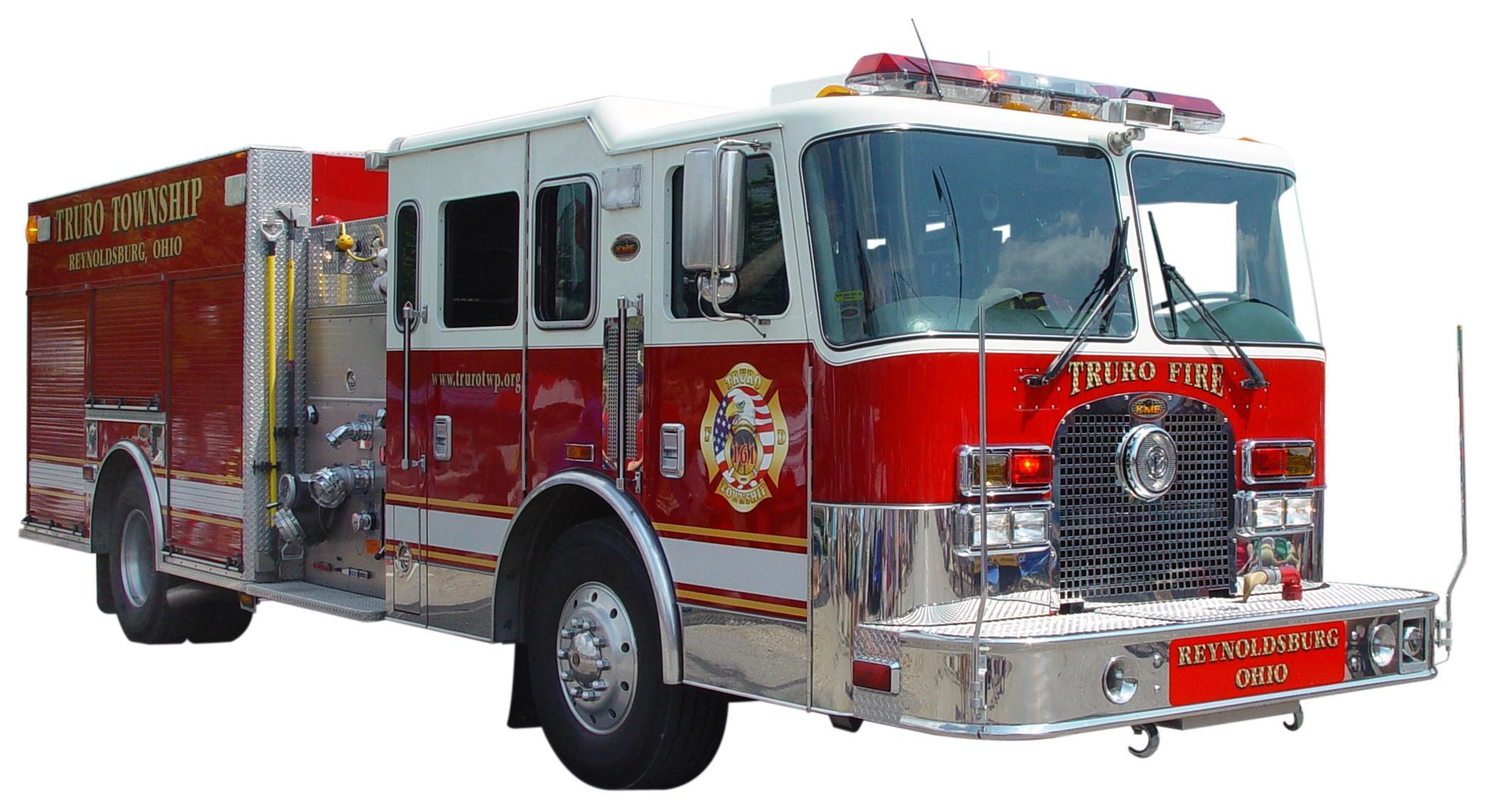Fire-engine: (18, 50, 1448, 795)
